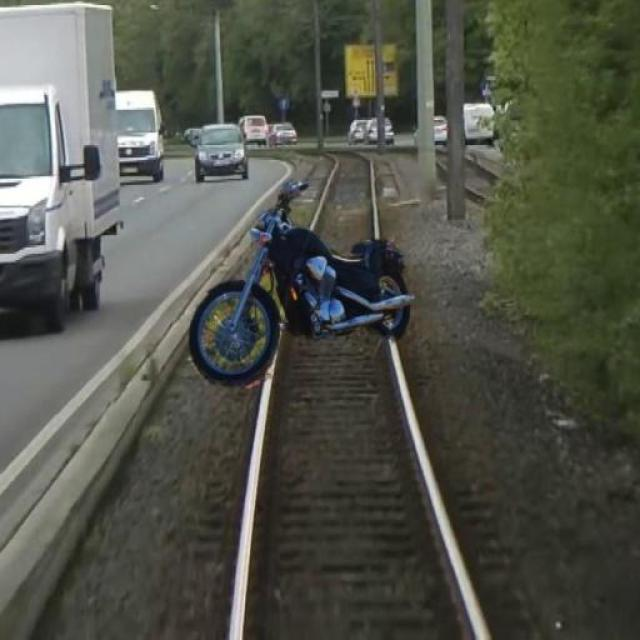vehicle: (186, 182, 431, 390), (4, 2, 120, 337), (113, 74, 172, 186), (188, 119, 253, 184)
